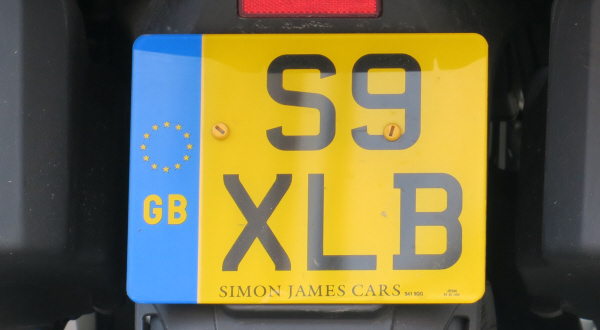license_plate: (125, 31, 489, 306)
